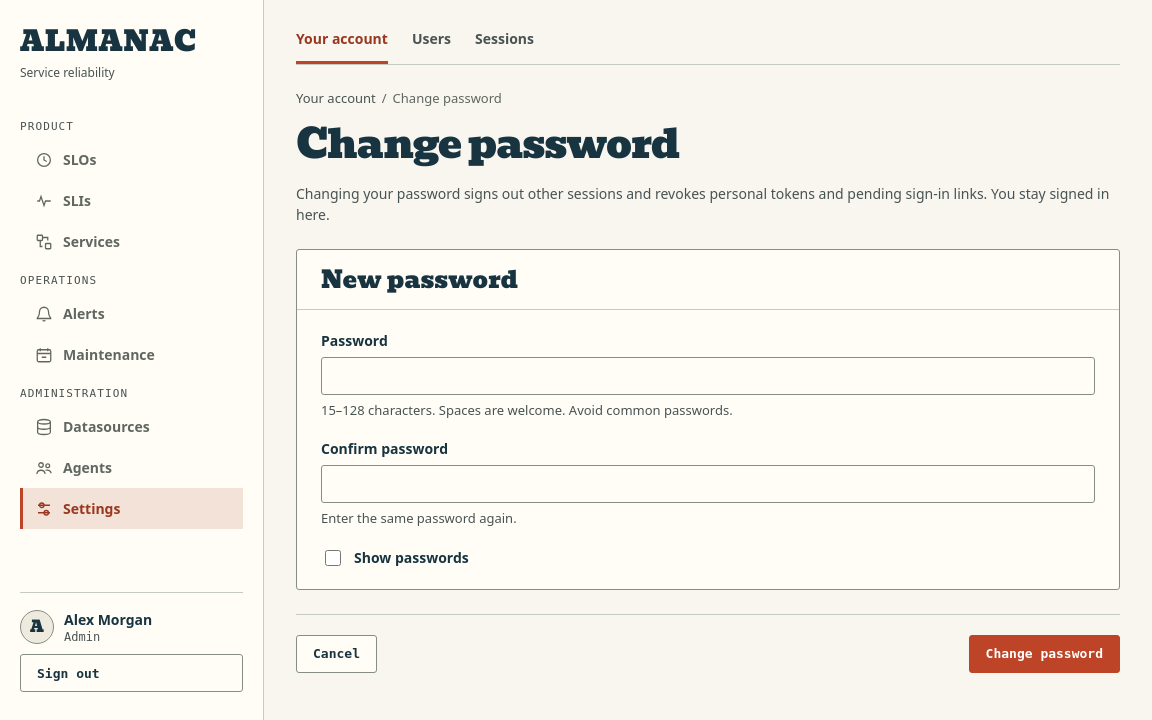
Test: uses the recovered session after a password-change response is lost, without repeating the password command
Type "a replacement password with spaces" into the password field labelled "Password" at (708, 376), box [321,357,1095,395]
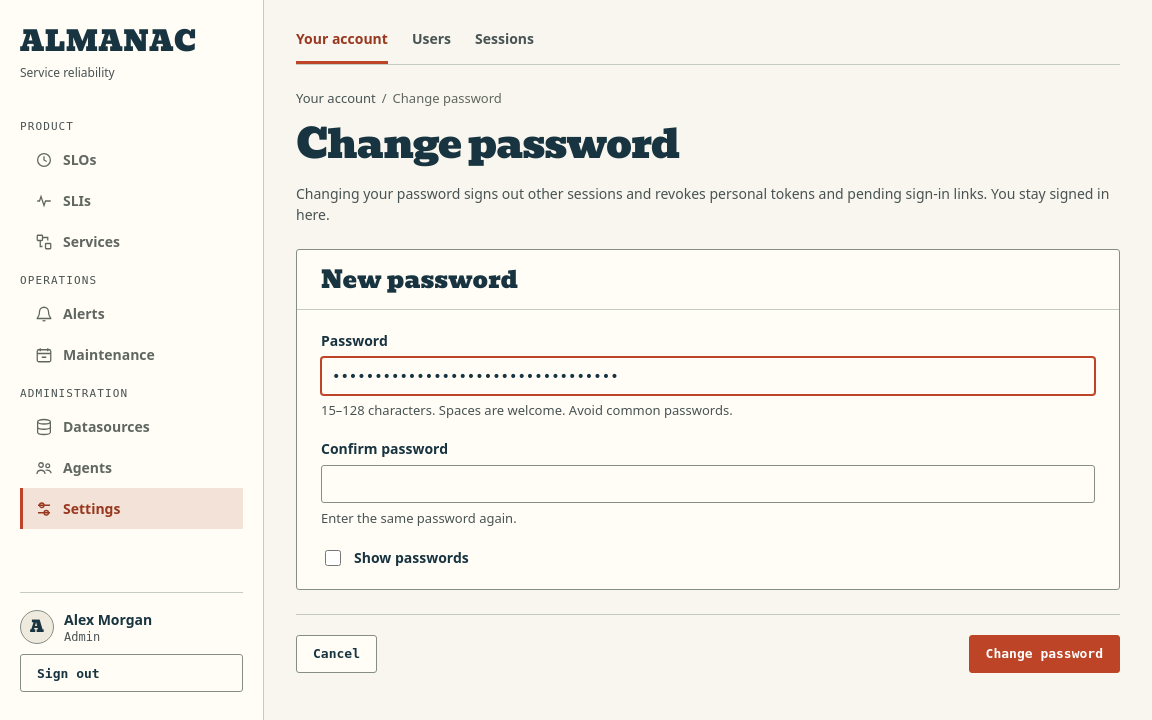
Type "a replacement password with spaces" into the password field labelled "Confirm password" at (708, 484), box [321,465,1095,503]
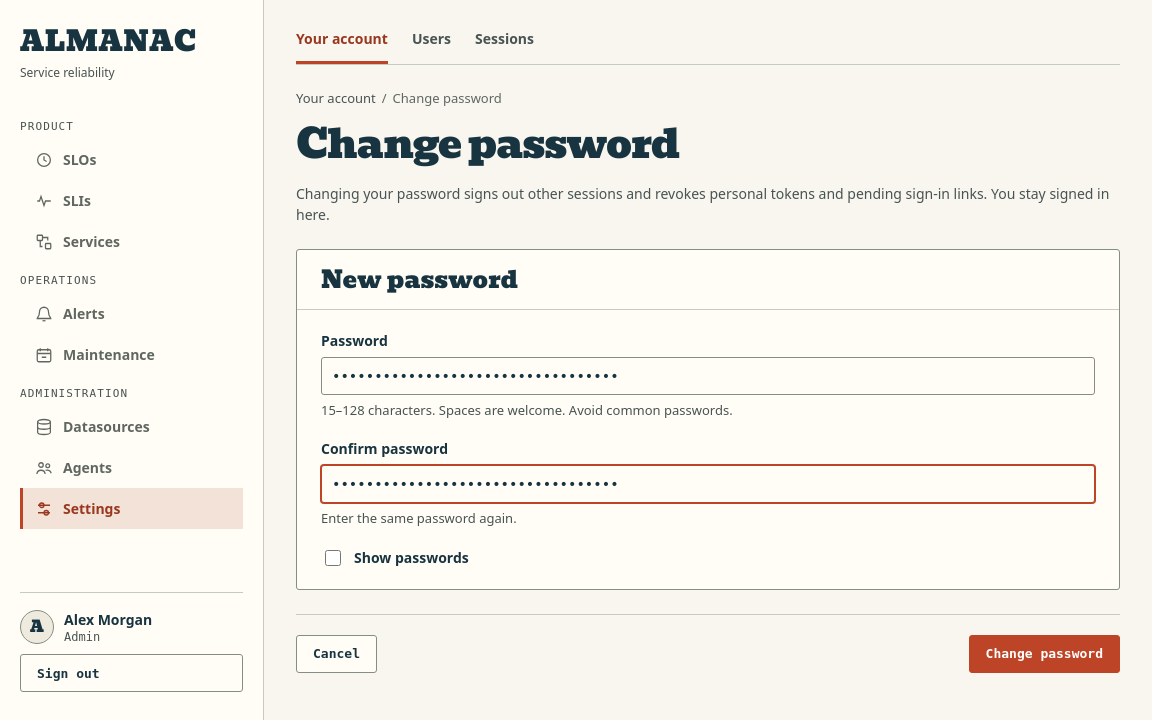
Click the button "Change password" at (1044, 654), box [969,635,1120,673]
(page scrolled)
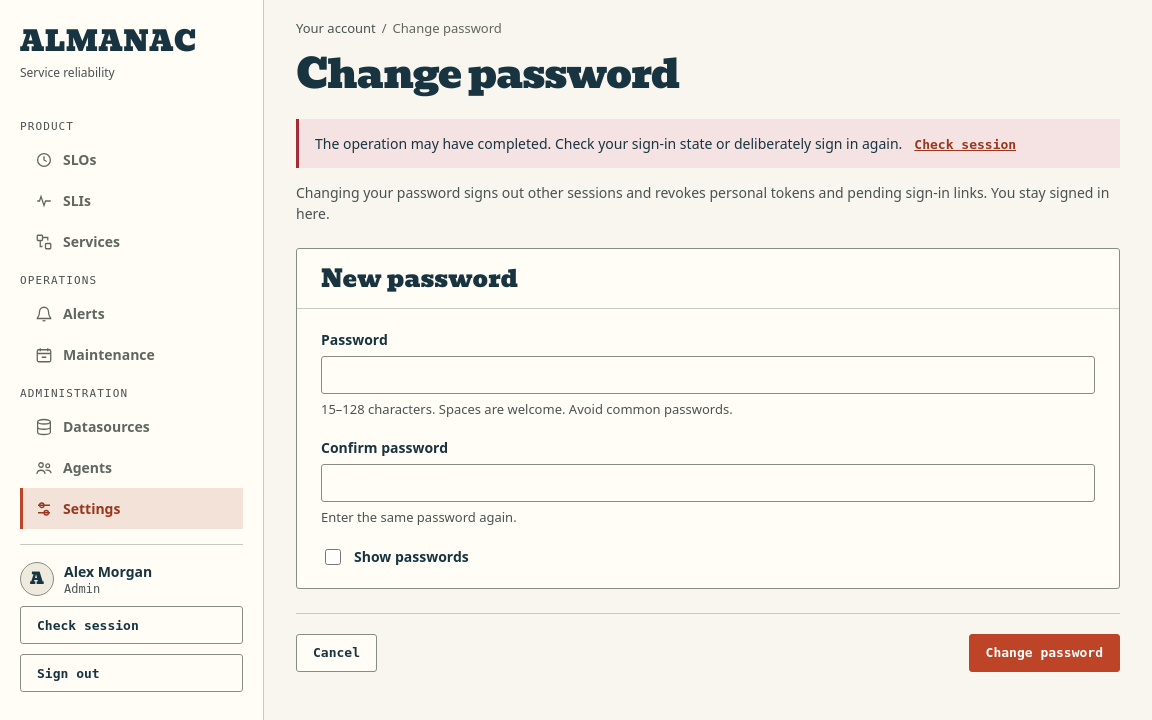
Check: the message shows "may have completed", box [315,134,902,152]
Check: the button "Check session" below "Alex Morgan" is shown, box [20,606,243,644]
Click the button "Cancel" at (336, 653), box [296,634,377,672]
(page scrolled)
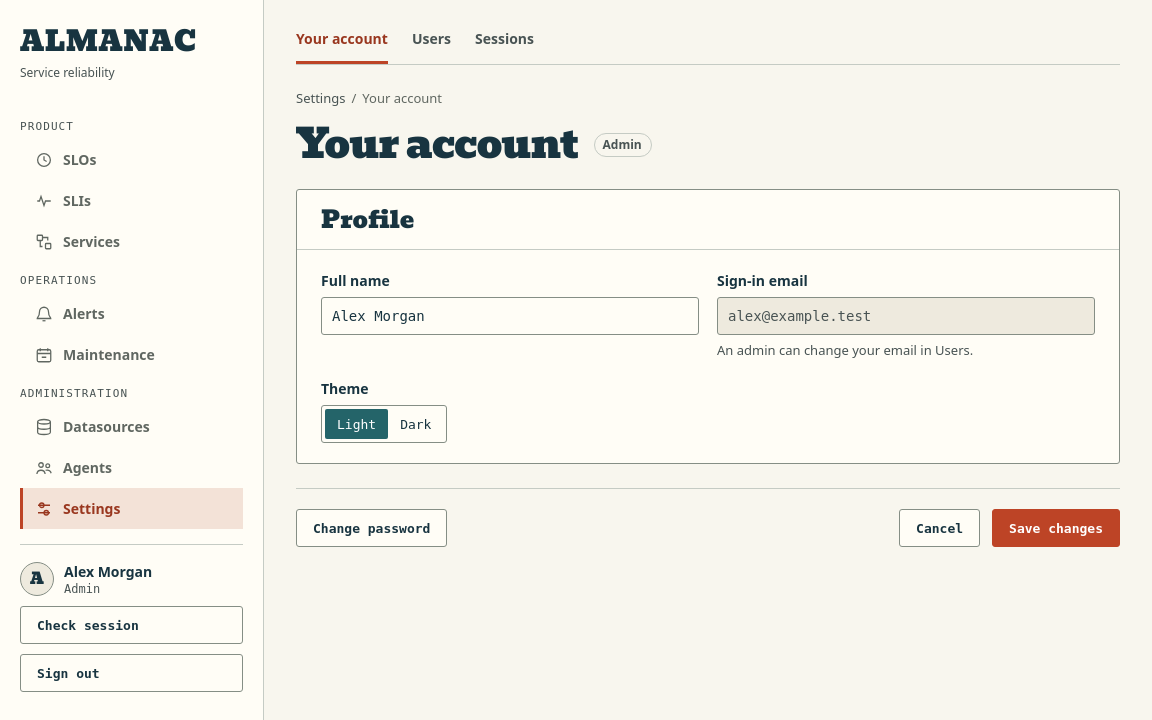
Replace the text in the field labelled "Full name" with "Alex Updated" at (510, 316), box [321,297,699,335]
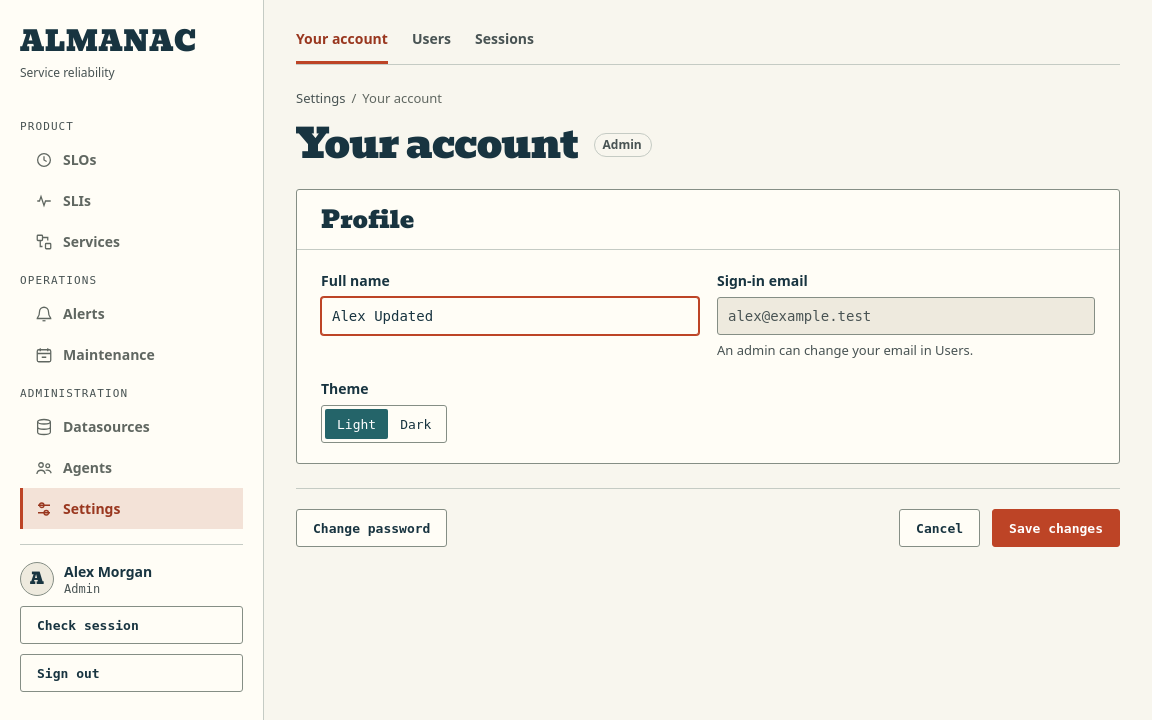
Click the button "Save changes" at (1056, 528), box [992,509,1120,547]
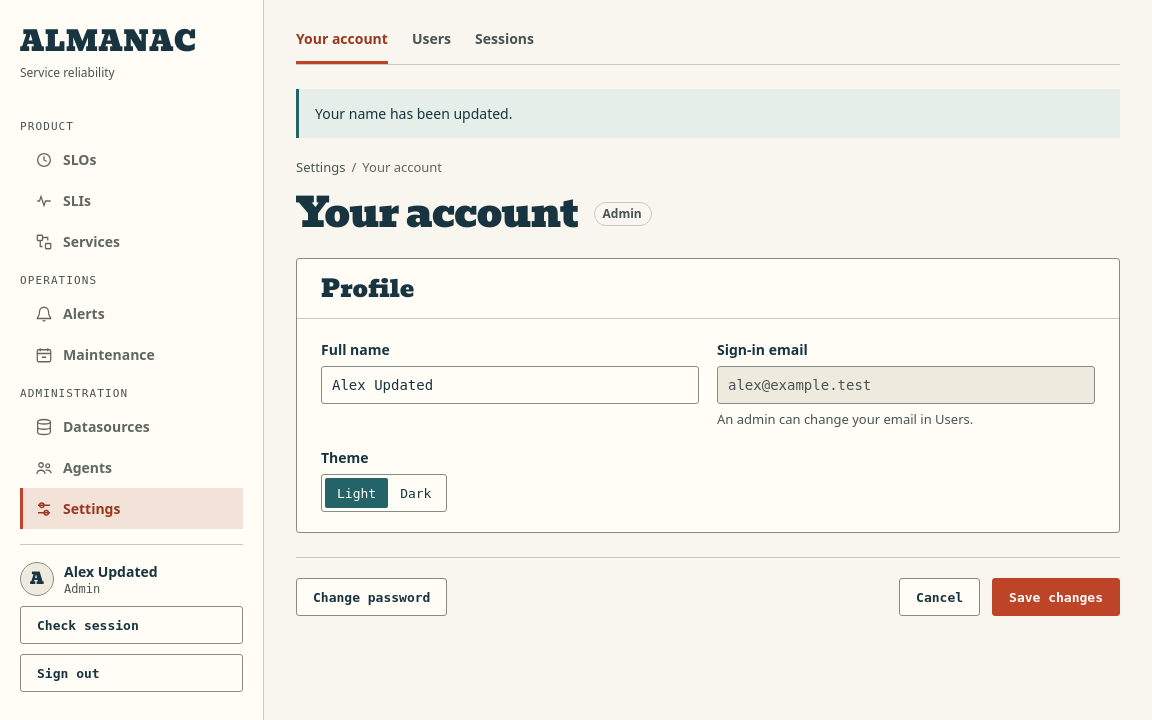
Check: the message reads "Your name has been updated.", box [315,104,512,123]
